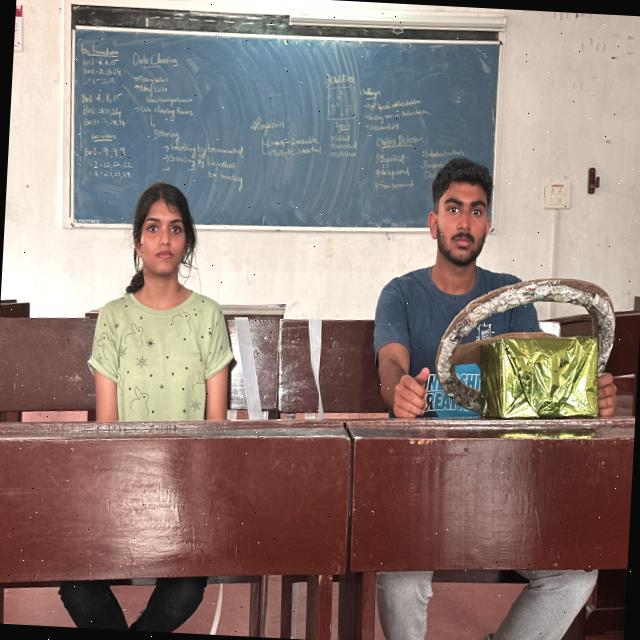no-seatbelt: (356, 263, 588, 454), (70, 282, 252, 459)
